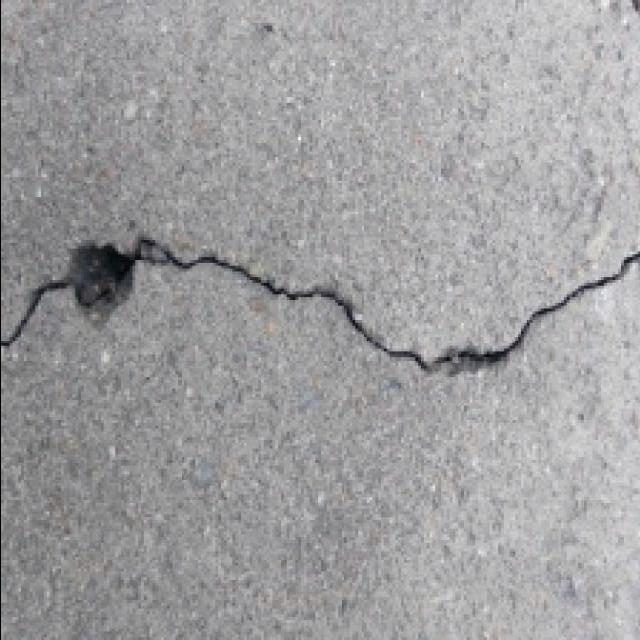SurfaceCrack: (0, 206, 626, 384)
